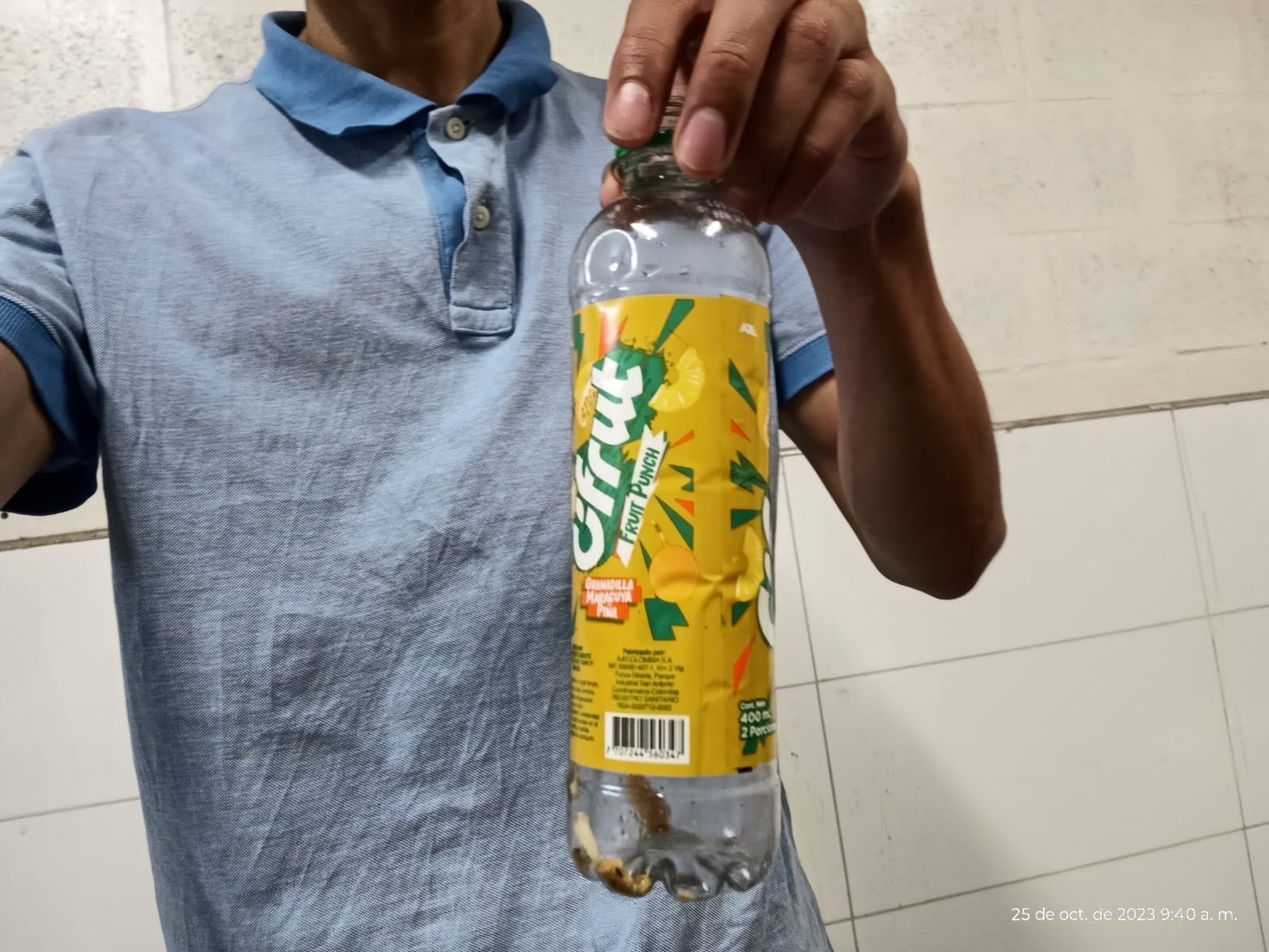Plastico: (567, 97, 786, 896)
